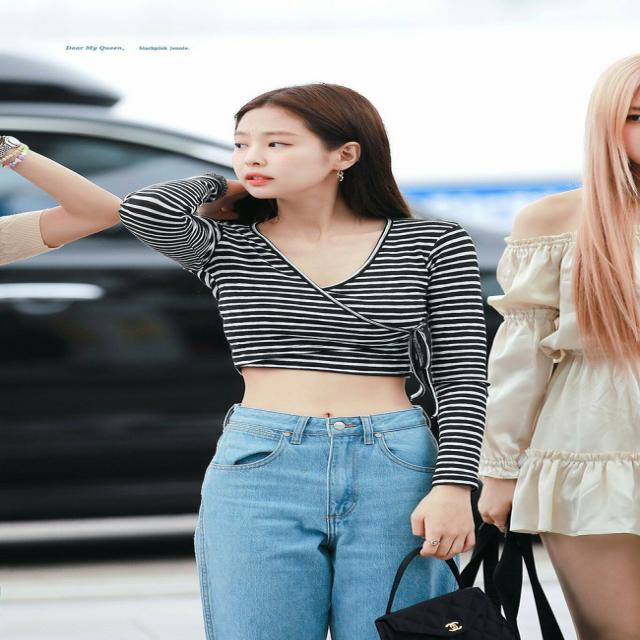clothes: (114, 173, 496, 640)
